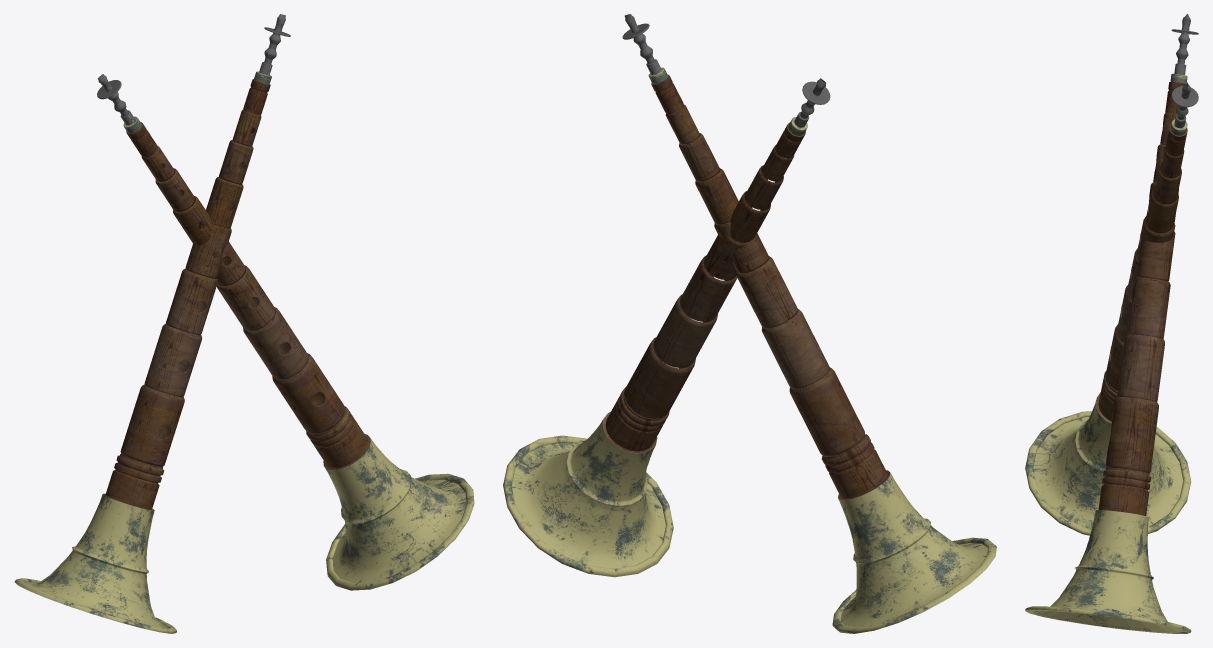
File: corni.glb
3 renders of one model, left to right at view 1: azimuth 30°, elevation 25°; view 2: azimuth 150°, elevation 25°; view 3: azimuth 270°, elevation 25°, orthographic. The views are drawn at different scales.
Visible parts, largest first — view 1: pCylinder1_Suona_0.001, pCylinder1, pCylinder3, pCylinder3_Suona_0.001, pCylinder4, pCylinder4_Suona_0.001, pCylinder5, pCylinder2, pCylinder5_Suona_0.001, pCylinder2_Suona_0.001, pCylinder6, pCylinder7 (+7 smaller); view 2: pCylinder1_Suona_0.001, pCylinder1, pCylinder3, pCylinder4, pCylinder3_Suona_0.001, pCylinder5, pCylinder2, pCylinder4_Suona_0.001, pCylinder2_Suona_0.001, pCylinder5_Suona_0.001, pCylinder7, pCylinder7_Suona_0.001 (+6 smaller); view 3: pCylinder1, pCylinder1_Suona_0.001, pCylinder3_Suona_0.001, pCylinder4_Suona_0.001, pCylinder5_Suona_0.001, pCylinder2_Suona_0.001, pCylinder6_Suona_0.001, pCylinder7, pCylinder3, pCylinder8, pCylinder2, pCylinder13 (+10 smaller).
Part boxes in pixels (box(x1,y1,x2,y2)): pCylinder1_Suona_0.001: box(323, 434, 474, 590); pCylinder1: box(14, 493, 176, 633); pCylinder3: box(120, 384, 184, 466); pCylinder3_Suona_0.001: box(272, 353, 344, 434); pCylinder4: box(144, 323, 201, 397); pCylinder4_Suona_0.001: box(243, 307, 308, 379); pCylinder5: box(166, 268, 217, 334); pCylinder2: box(105, 453, 164, 509); pCylinder5_Suona_0.001: box(217, 265, 275, 330); pCylinder2_Suona_0.001: box(306, 406, 368, 468); pCylinder6: box(185, 220, 231, 278); pCylinder7: box(206, 176, 243, 228); pCylinder1_Suona_0.001: box(503, 411, 673, 577); pCylinder1: box(832, 470, 996, 633); pCylinder3: box(789, 367, 864, 456); pCylinder4: box(761, 309, 829, 389); pCylinder3_Suona_0.001: box(624, 337, 695, 418); pCylinder5: box(736, 256, 797, 328); pCylinder2: box(821, 434, 887, 498); pCylinder4_Suona_0.001: box(653, 294, 717, 367); pCylinder2_Suona_0.001: box(605, 387, 669, 451); pCylinder5_Suona_0.001: box(680, 255, 737, 321); pCylinder7: box(695, 168, 738, 224); pCylinder7_Suona_0.001: box(730, 191, 770, 242); pCylinder1: box(1025, 392, 1191, 535); pCylinder1_Suona_0.001: box(1025, 510, 1191, 633); pCylinder3_Suona_0.001: box(1105, 397, 1158, 473); pCylinder4_Suona_0.001: box(1117, 334, 1164, 401); pCylinder5_Suona_0.001: box(1127, 277, 1170, 338); pCylinder2_Suona_0.001: box(1098, 467, 1151, 515); pCylinder6_Suona_0.001: box(1137, 227, 1175, 281); pCylinder7: box(1145, 188, 1178, 233); pCylinder3: box(1105, 324, 1123, 391); pCylinder8: box(1153, 164, 1181, 203); pCylinder2: box(1098, 371, 1117, 421); pCylinder13: box(1171, 82, 1198, 107).
Bounding box in the file's own units: 0.5888 × 0.7062 × 0.2063.
Materials: 2 (2 with a texture image).
